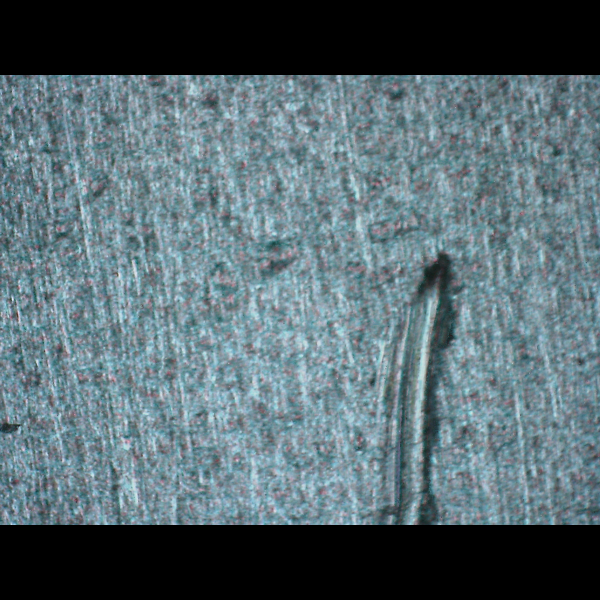d: (364, 250, 459, 524)
